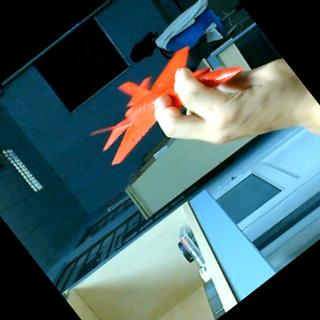Jet: (71, 19, 242, 172)
